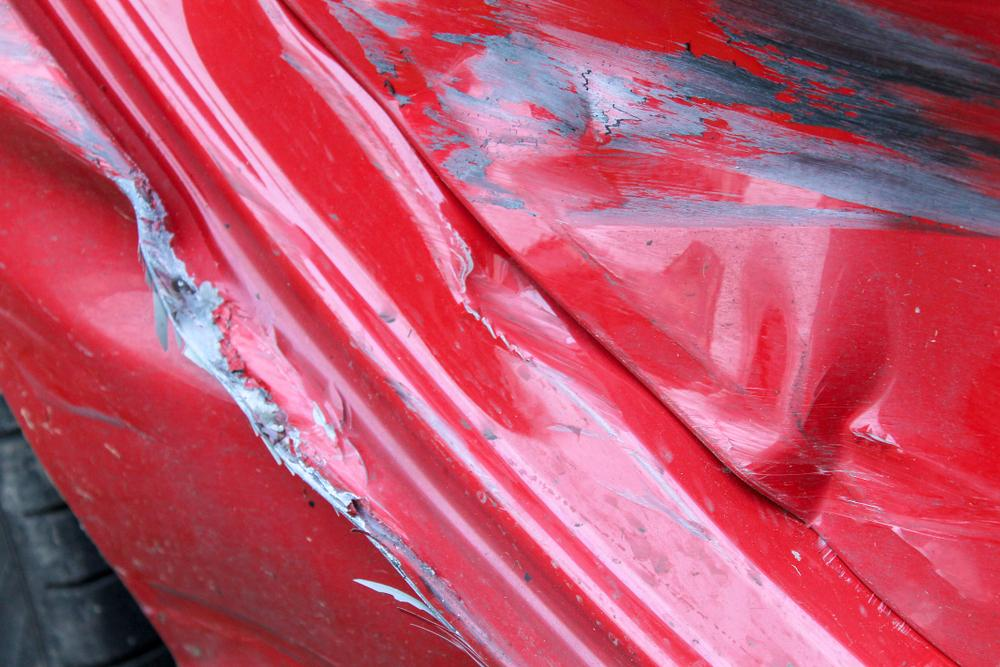dent: (292, 0, 1000, 629), (0, 104, 235, 392)
scratch: (215, 379, 507, 667)
